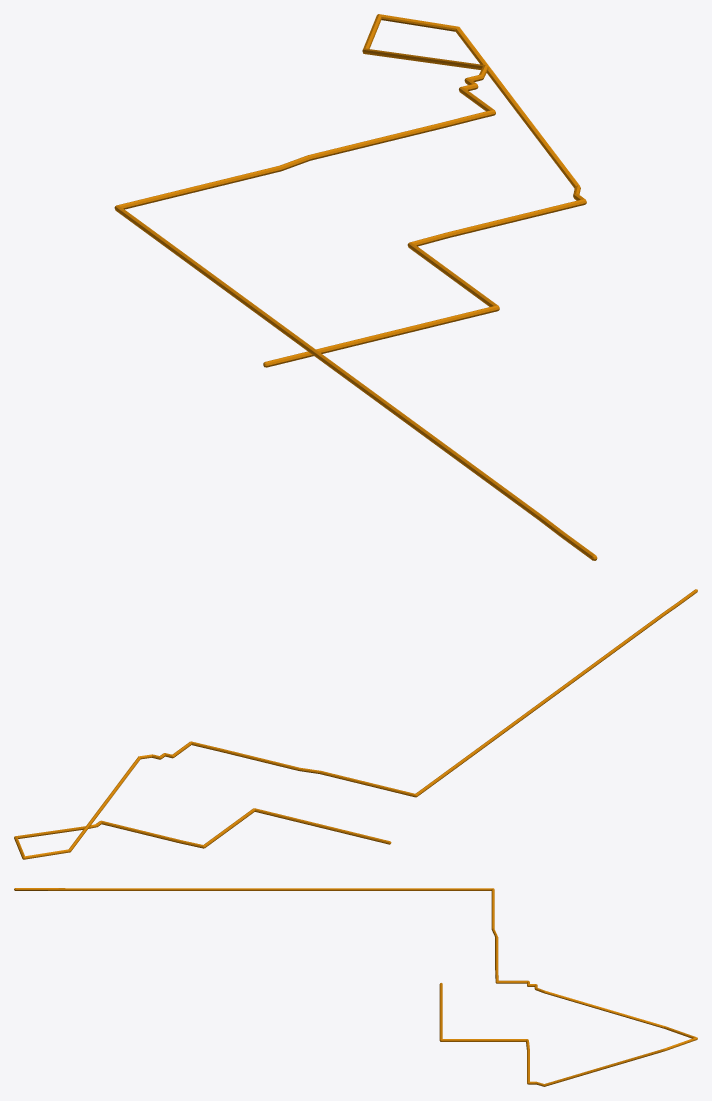
The picture shows the model from 3 angles, top to bottom: view 1: azimuth 30°, elevation 25°; view 2: azimuth 150°, elevation 25°; view 3: azimuth 270°, elevation 25°; orthographic projection. The views are drawn at different scales.
Bounding box in the file's own units: 1907 × 520 × 4365.
